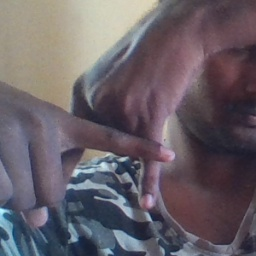H: (34, 77, 177, 213)
